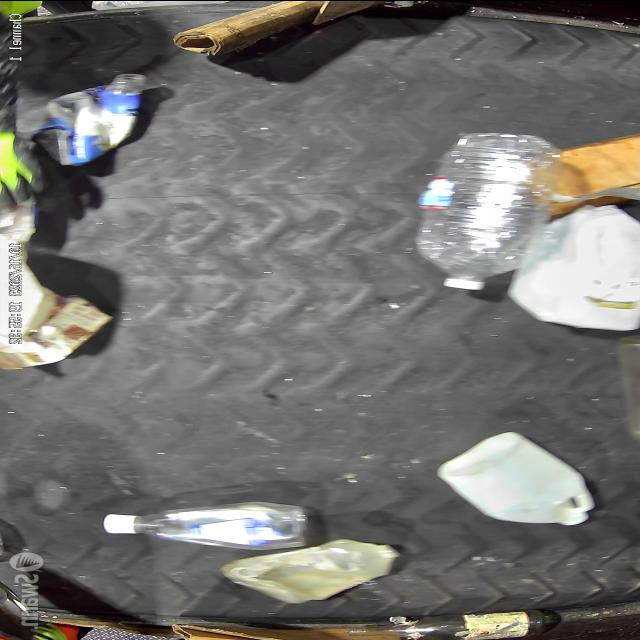milk_jug: (434, 428, 606, 532), (506, 202, 640, 332)
non_white_jug: (214, 536, 402, 608)
plastic_bottle: (409, 132, 557, 290)
